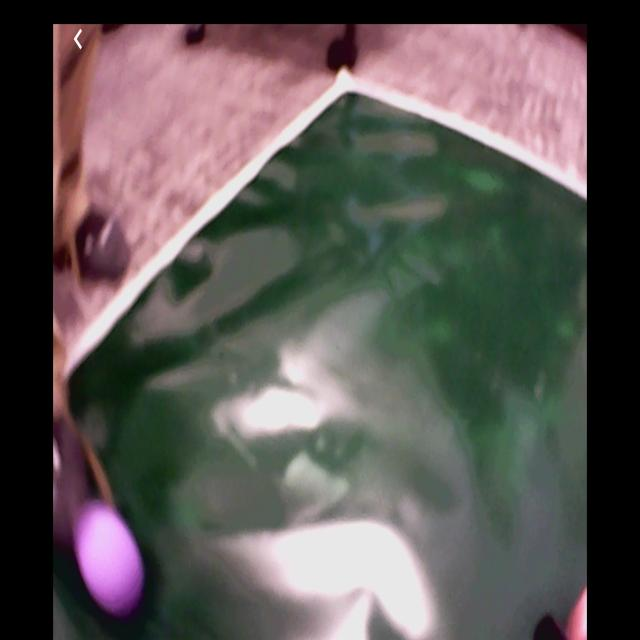ball: (77, 504, 146, 616)
